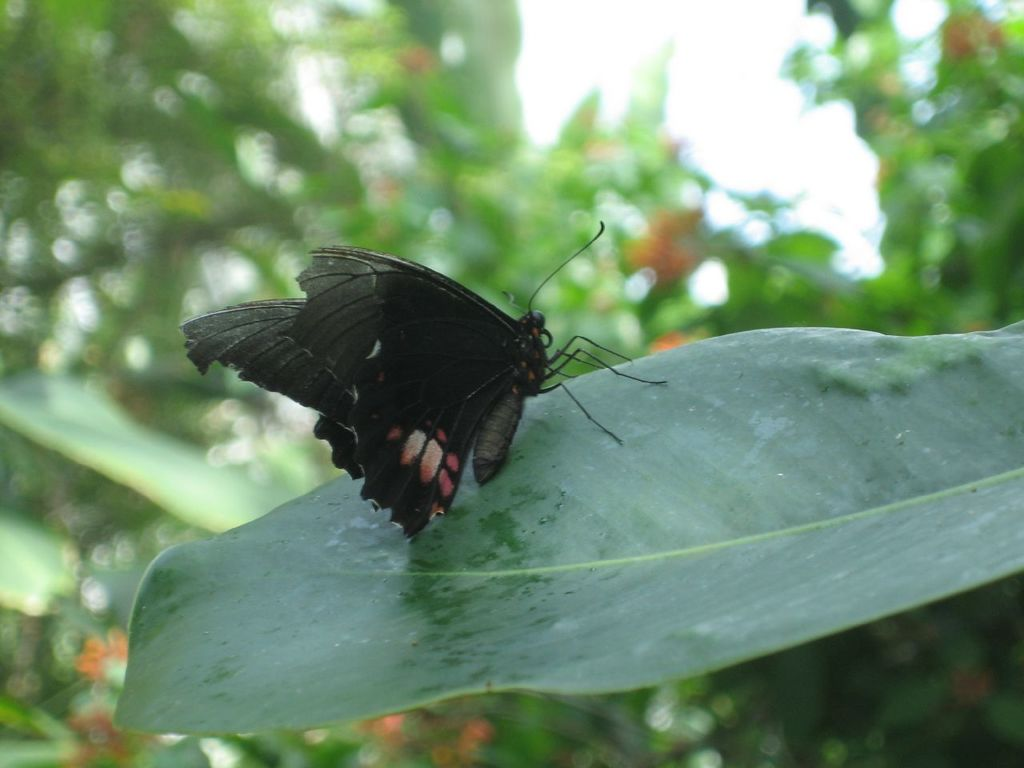Butterfly: (173, 222, 661, 534)
